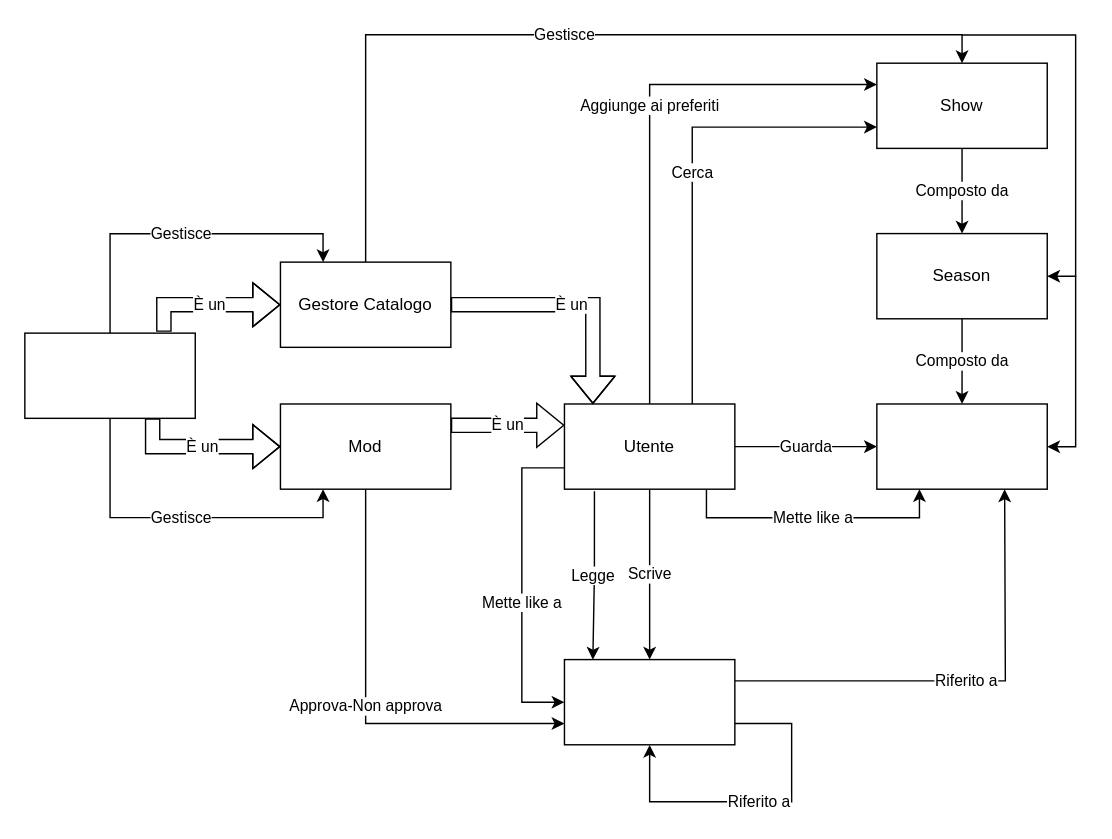
The diagram is 1112 pixels wide and 839 high, and some of its shapes have lost their labels. The box of each missing label's shape, as (x1, y1, x2, y2) in pixels:
Admin: (23, 332, 195, 418)
Commento: (563, 658, 735, 745)
Episodio: (875, 403, 1047, 489)
